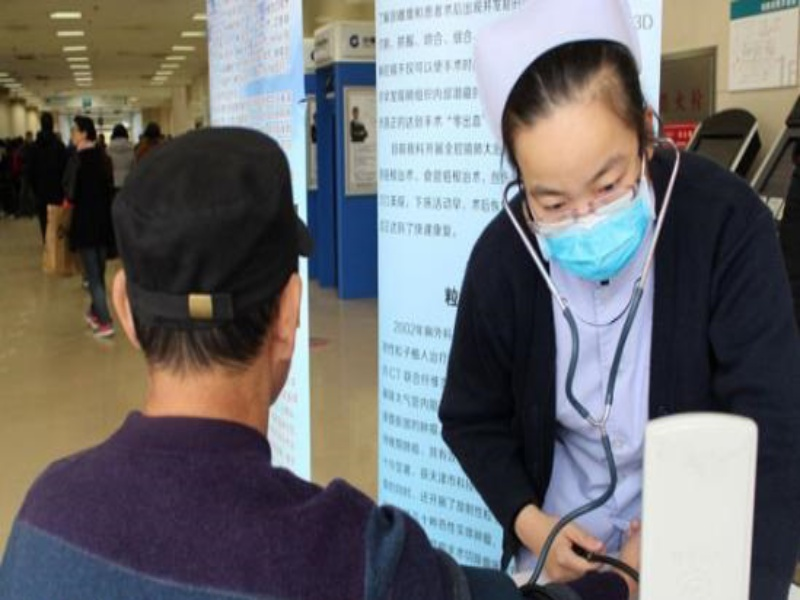mask: (492, 42, 675, 284)
